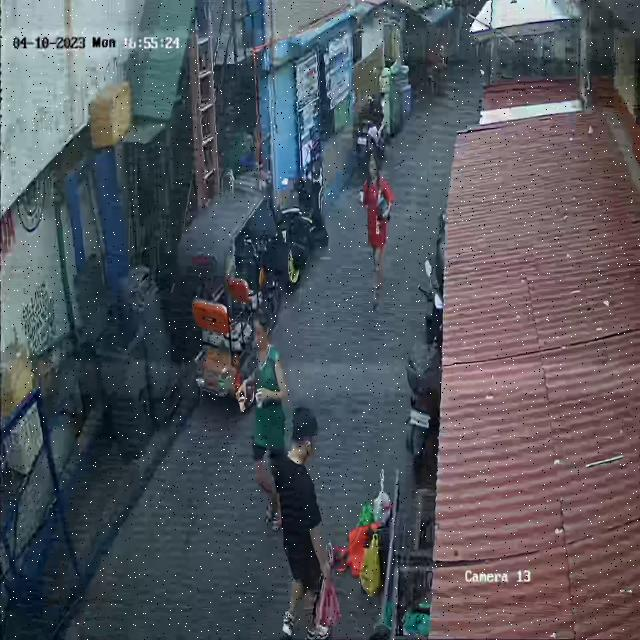human: (281, 408, 341, 640), (237, 306, 286, 534), (358, 154, 393, 310)
trash: (344, 470, 394, 594), (315, 557, 342, 629)
